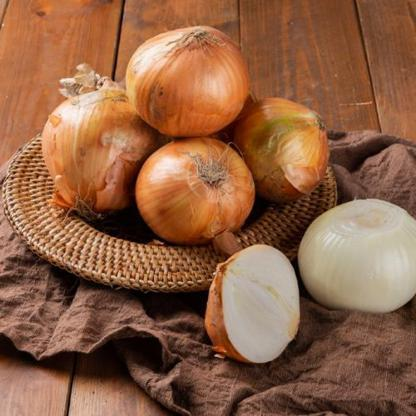onion: (142, 125, 261, 244), (52, 76, 148, 204), (310, 204, 415, 316), (212, 232, 299, 361), (133, 30, 246, 128), (242, 96, 342, 200)
